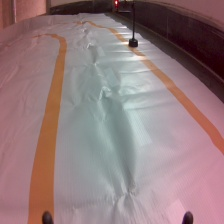red: (110, 1, 140, 49)
